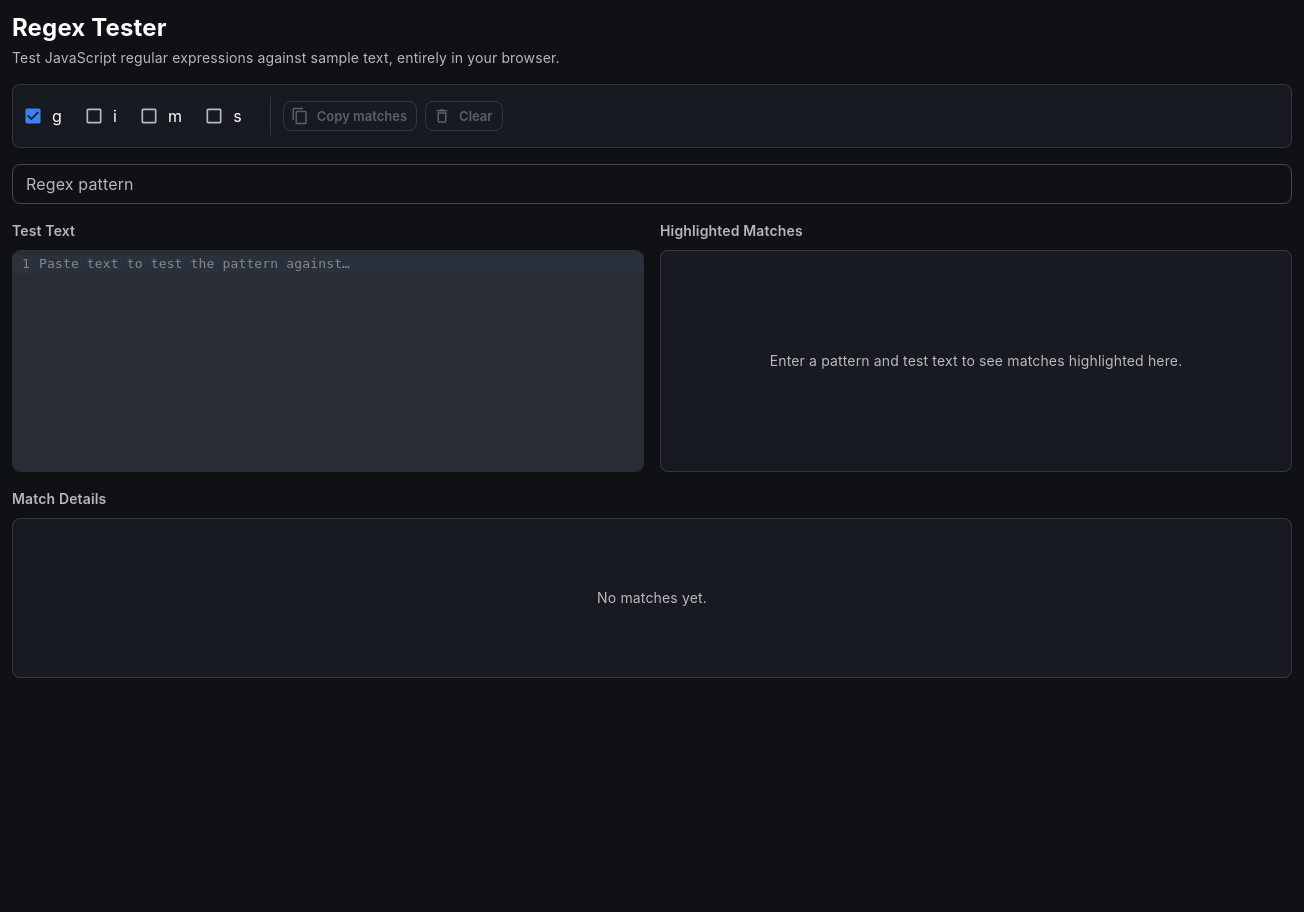
it: RegexTesterPage › highlights matches and lists match details once a pattern and text are entered
The width and height of the screenshot is (1304, 912).
Click the field labelled "Regex pattern" at {"x": 652, "y": 184}, box 12,164 -> 1292,204
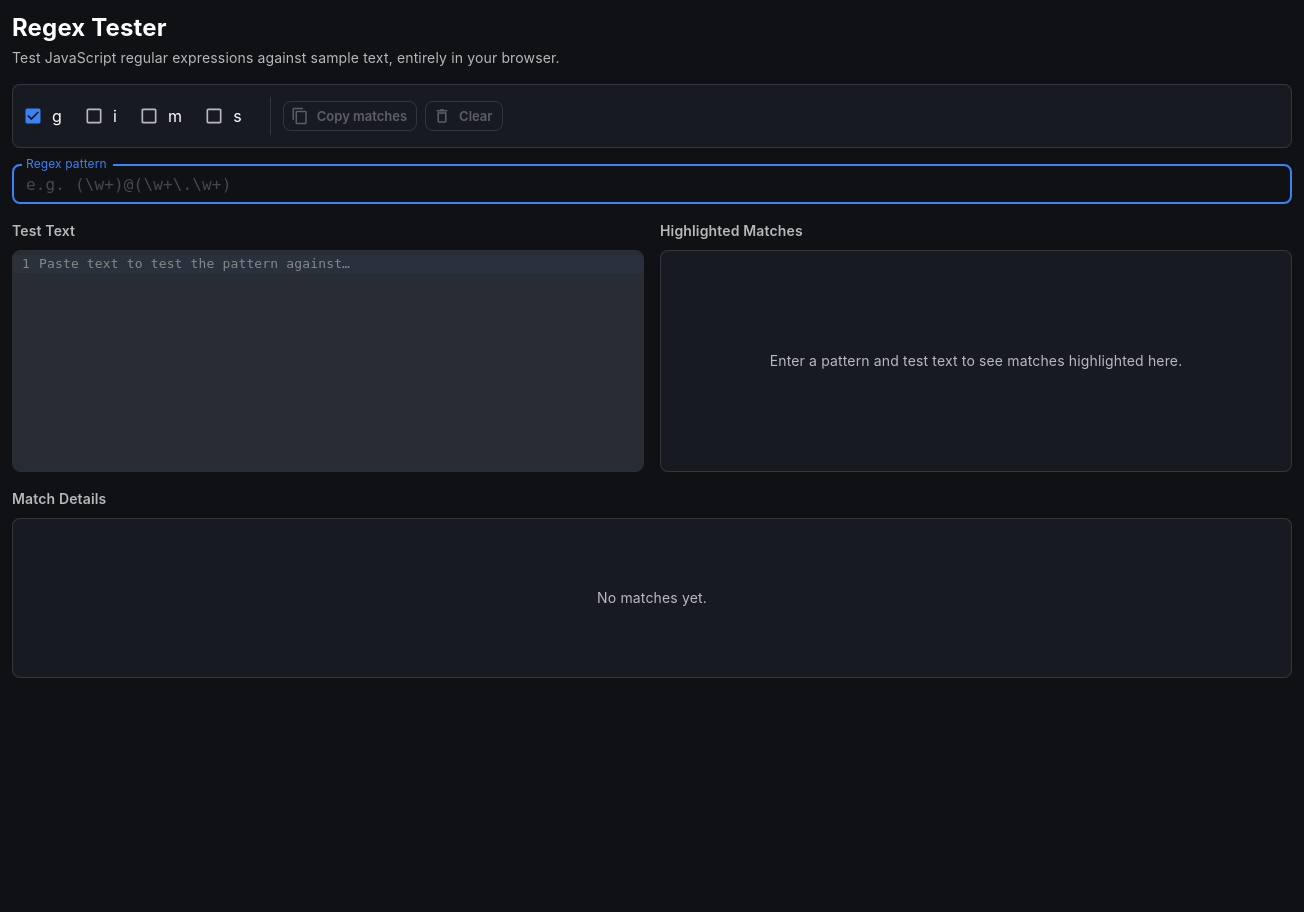
Type keys "\\d+"
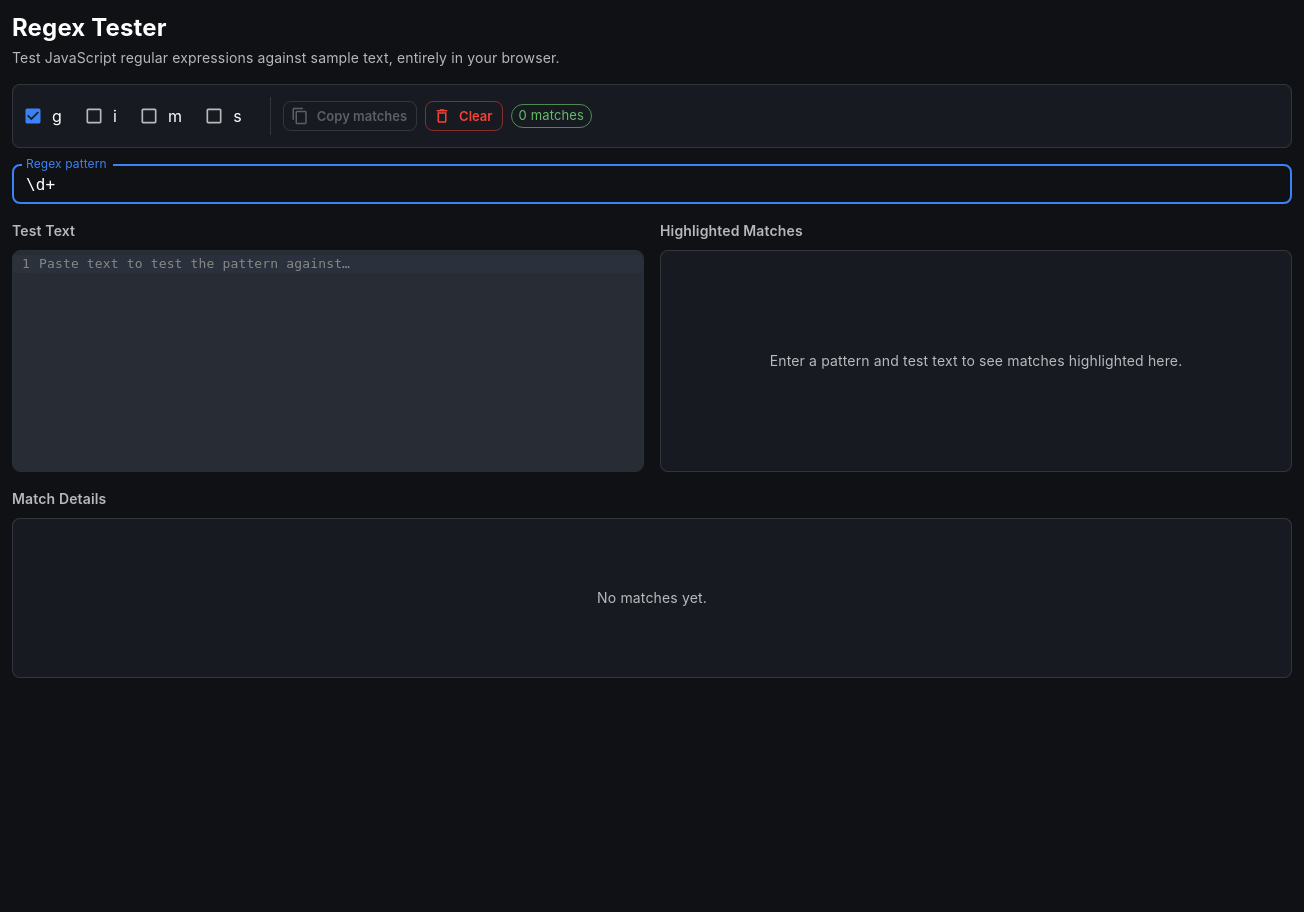
Click the field labelled "Paste text to test the pattern against…" at {"x": 338, "y": 264}, box 33,251 -> 643,277
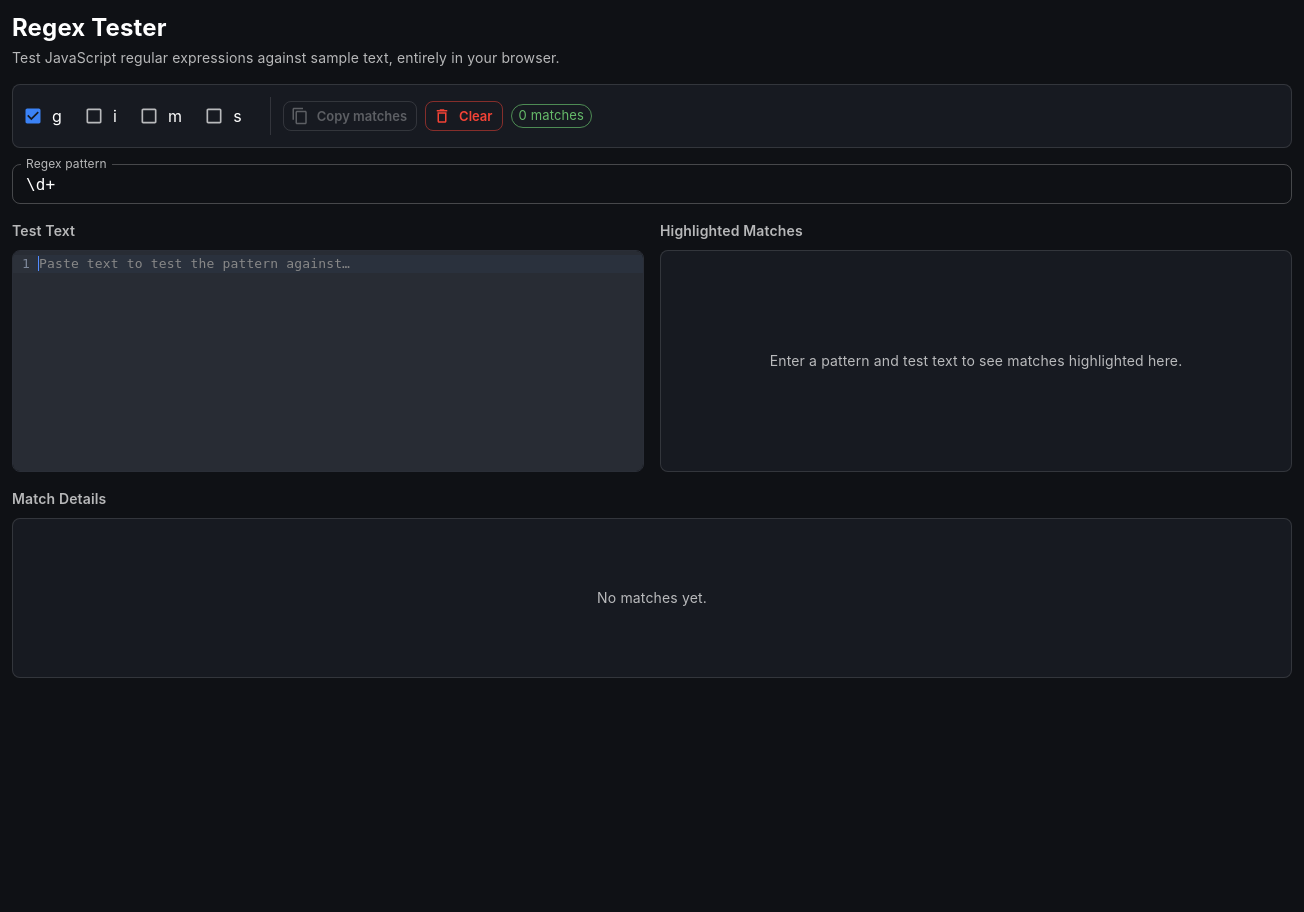
Type keys "a1 b22"
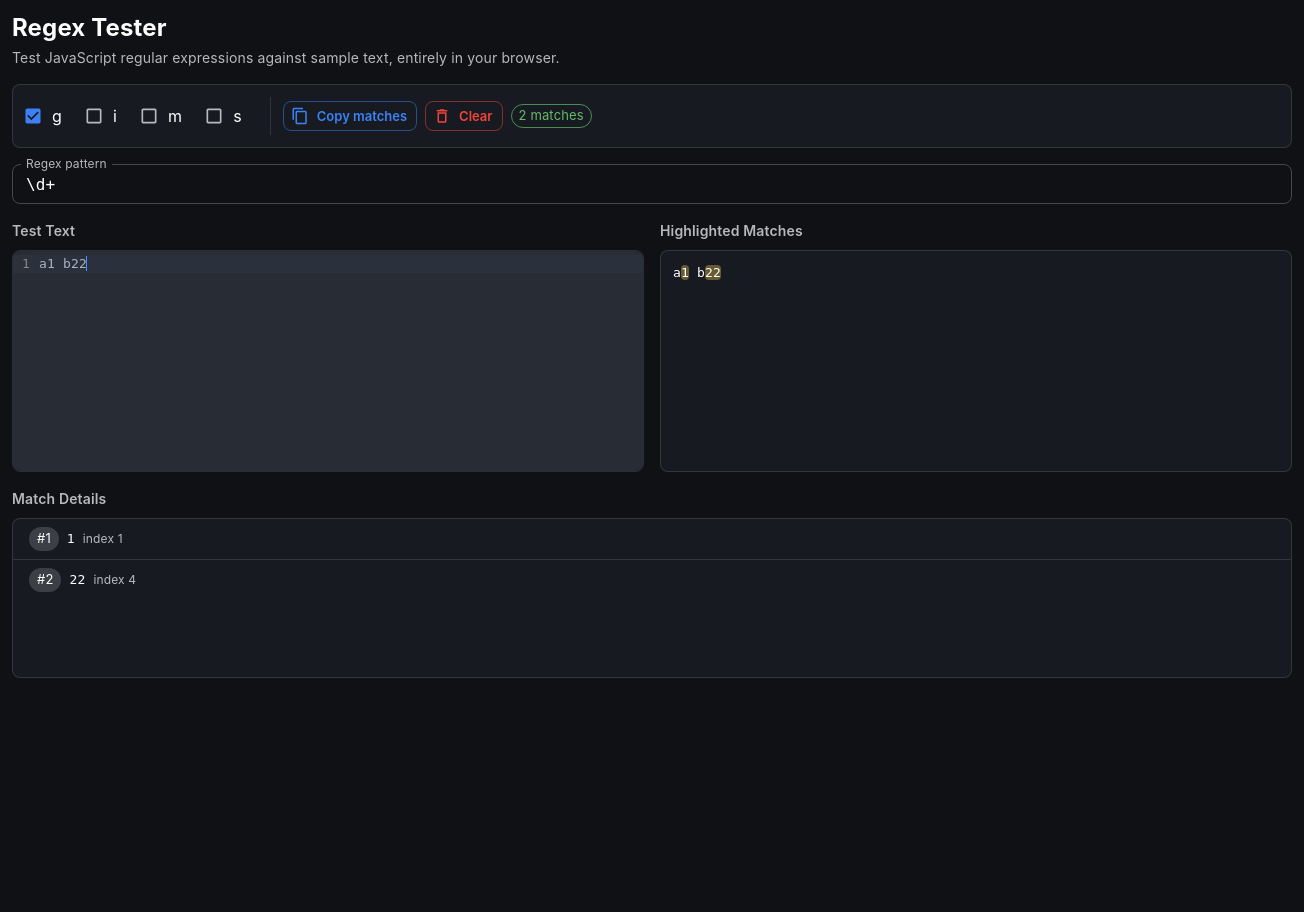
Now the text "1" below "Highlighted Matches" is shown, box 681,265 -> 689,280
Now the text "22" below "Highlighted Matches" is shown, box 705,265 -> 721,280
Now the element named "Match details" is shown, box 12,518 -> 1292,678
